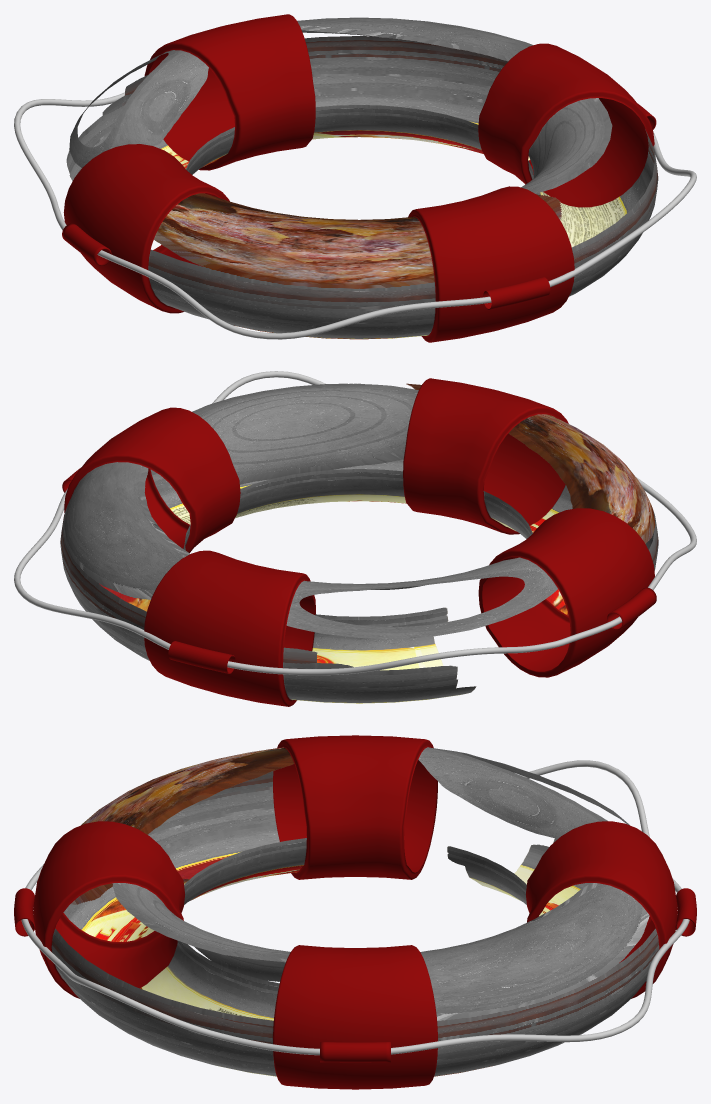
The model's file is boia salva vida1.fbx.
3 views of the same model, one above another, from view 1: azimuth 30°, elevation 25°; view 2: azimuth 150°, elevation 25°; view 3: azimuth 270°, elevation 25° (orthographic). The views are drawn at different scales.
Parts seen in each view (by area): view 1: BOIA, CORDA, SUPORTE, SUPORTE.001; view 2: BOIA, CORDA, SUPORTE, SUPORTE.001; view 3: BOIA, CORDA, SUPORTE, SUPORTE.001.
Boxes of the visible parts, x1,y1,x2,y2 form: BOIA: (63,14,658,342); CORDA: (14,92,696,339); SUPORTE: (483,277,550,309); SUPORTE.001: (62,103,656,265); BOIA: (60,378,658,706); CORDA: (14,371,696,675); SUPORTE: (168,641,235,673); SUPORTE.001: (62,468,656,630); BOIA: (33,735,677,1089); CORDA: (21,760,689,1055); SUPORTE: (14,888,696,936); SUPORTE.001: (320,1042,390,1062).
Bounding box in the file's own units: 271 × 56.26 × 271.
